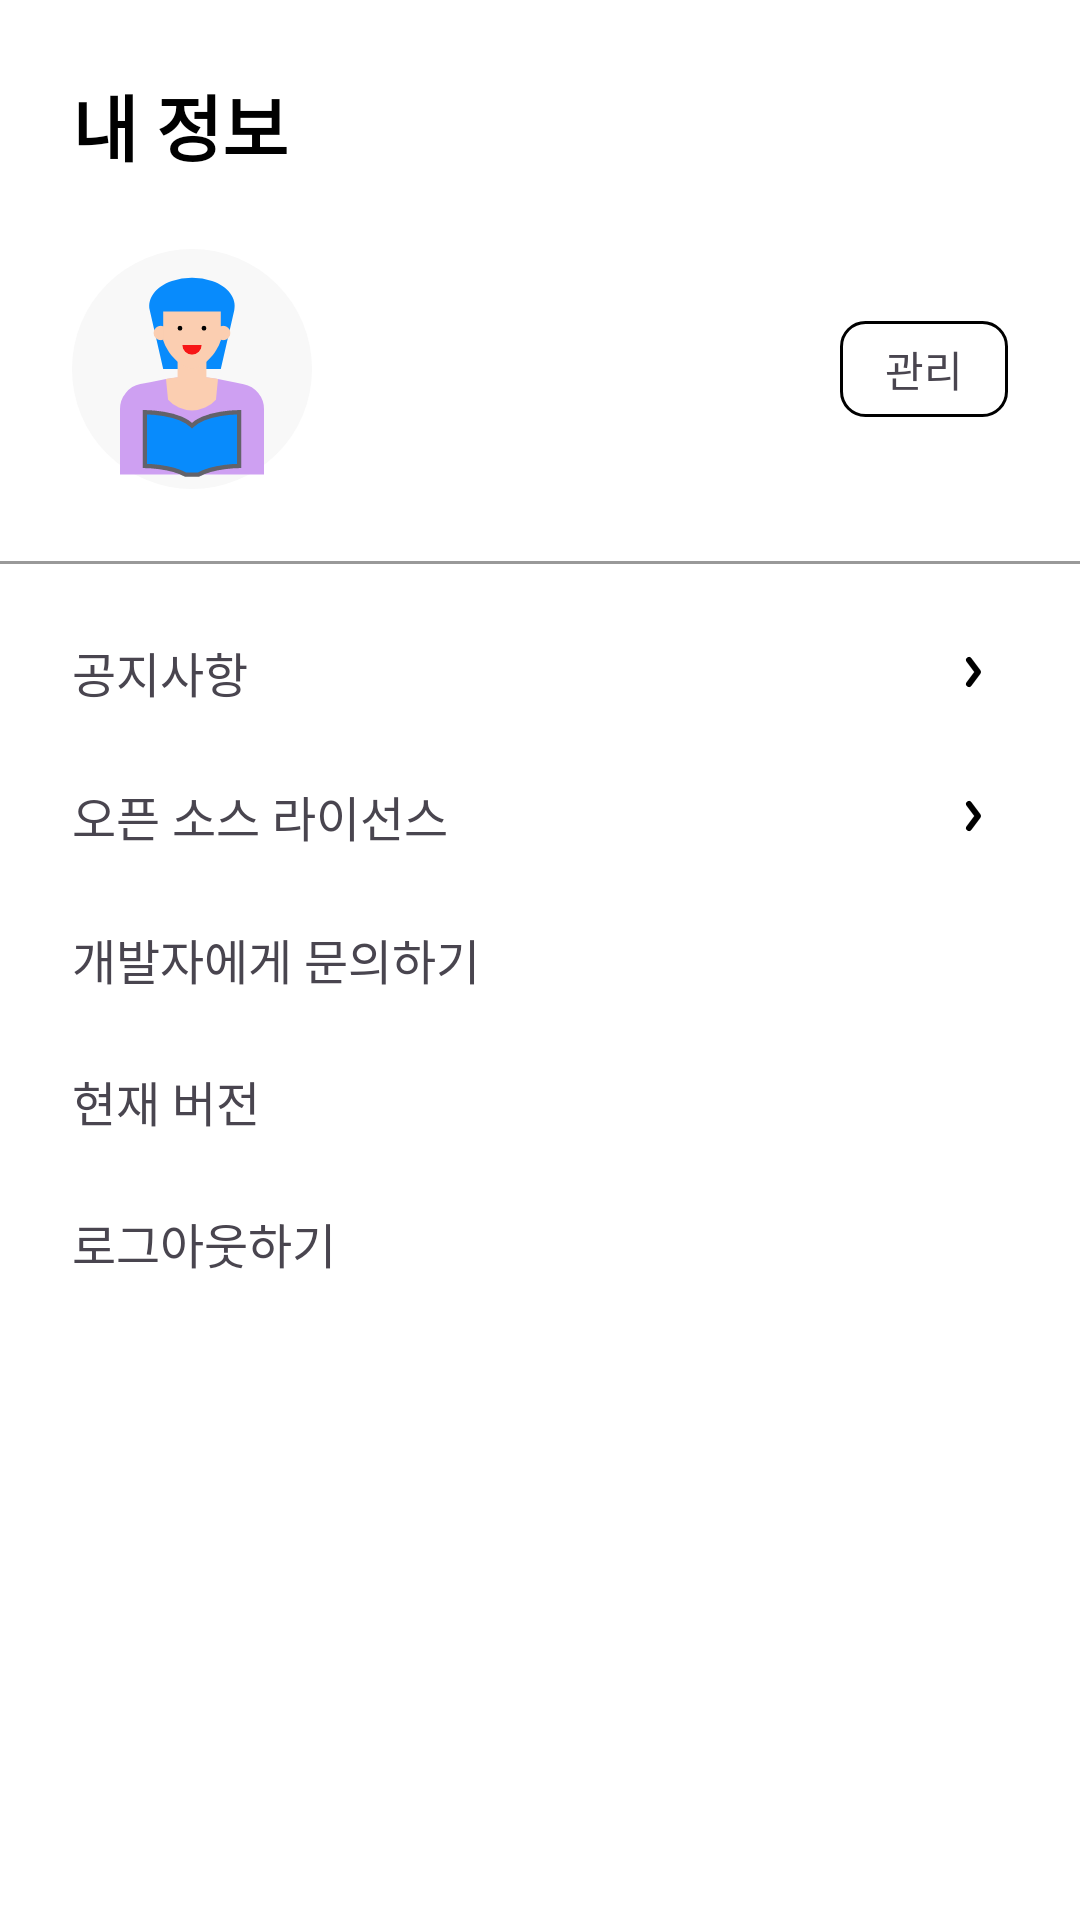

Named icons in this screenshot (1080 x 1920) and their centers, (x=x, y=y):
arrow right: (x=973, y=672), (x=973, y=816)
profile user: (x=192, y=377)
